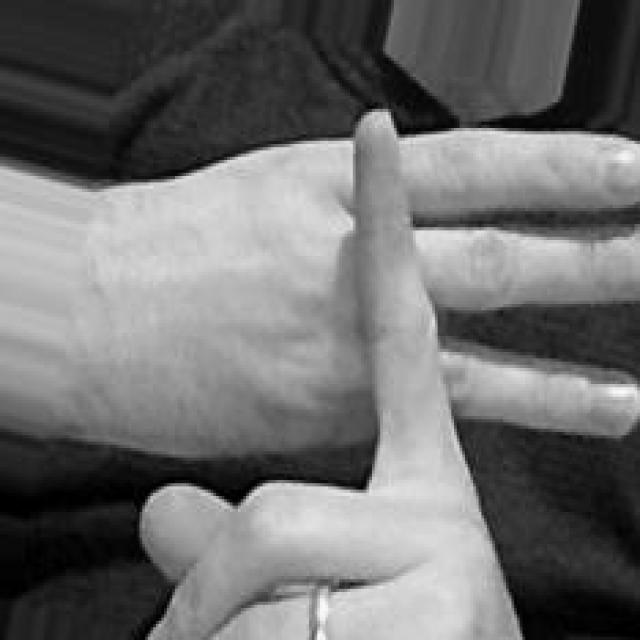E: (113, 104, 639, 640)
